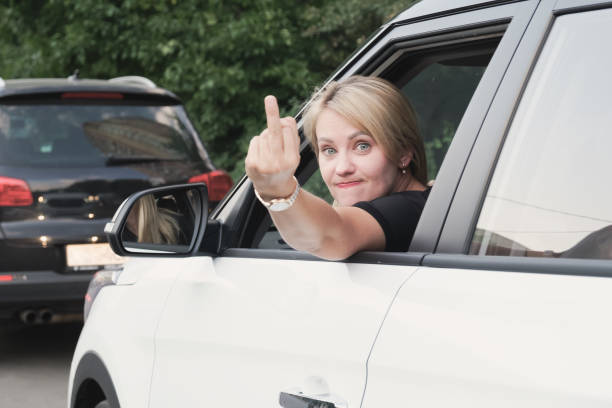insulting_gesture: (245, 91, 303, 196)
